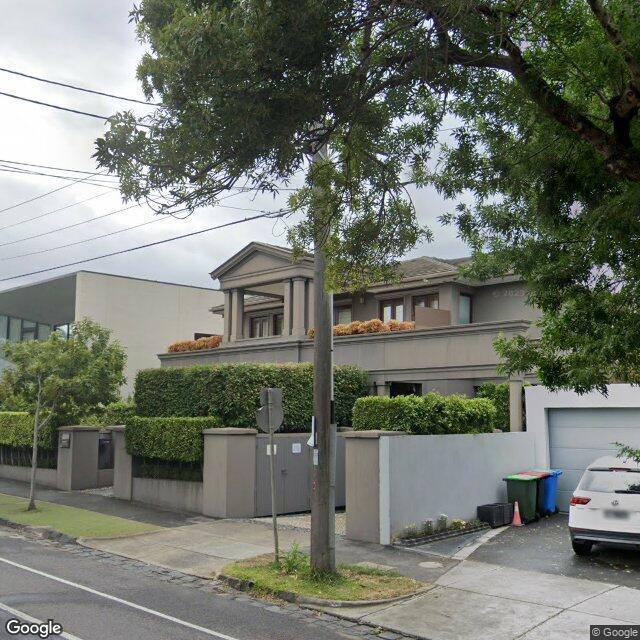timber-pole: (310, 127, 338, 578)
